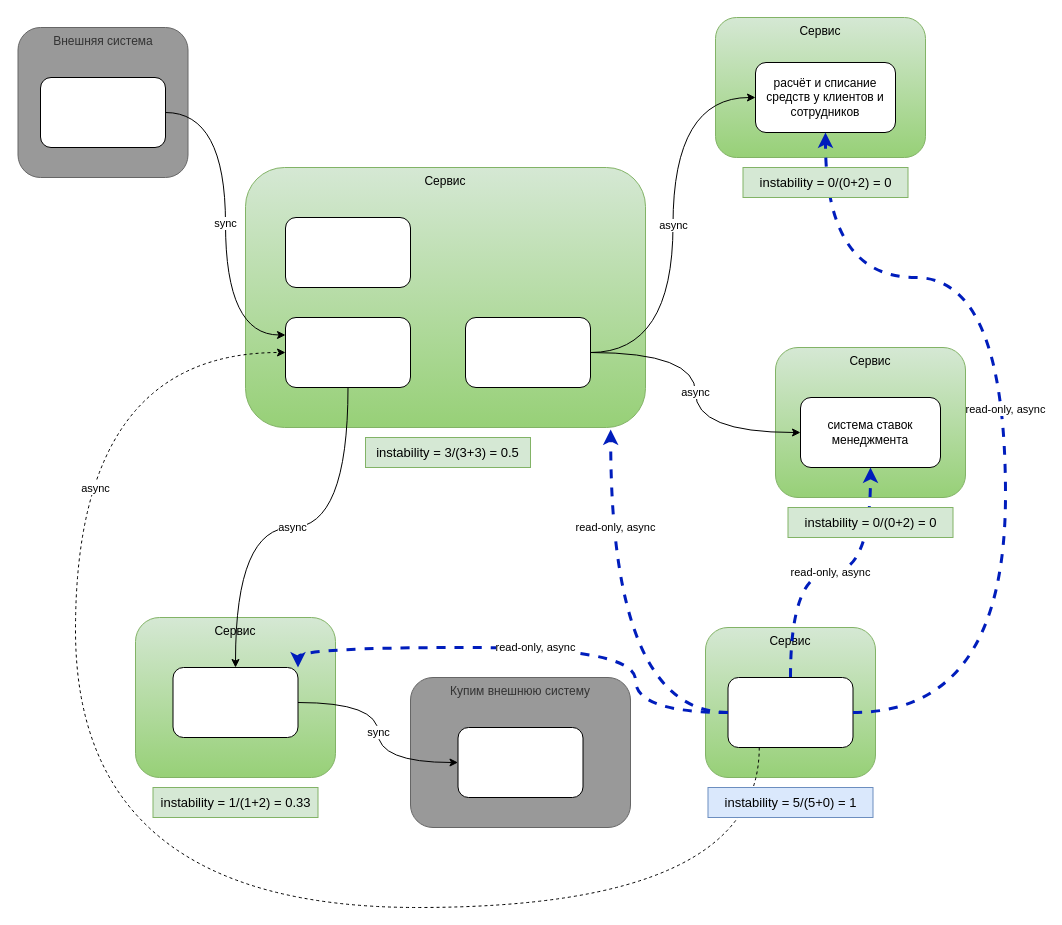
The diagram is 1062 pixels wide and 925 high, and some of its shapes have lost their labels. Here are the shapes that lost their labels. From the top down, the box of each, then its label:
(40, 76, 166, 148): happy cat box
(284, 216, 410, 288): матчинг сотрудников и клиентов
(284, 316, 410, 388): планирование визитов
(464, 316, 590, 388): контроль качества работы сотрудников
(172, 666, 298, 738): сборка необходимых расходников для заказа
(727, 676, 853, 748): скоринг работников перед тем, как добавить их в систему как воркеров
(457, 726, 583, 798): производство Fur-tune печенья
